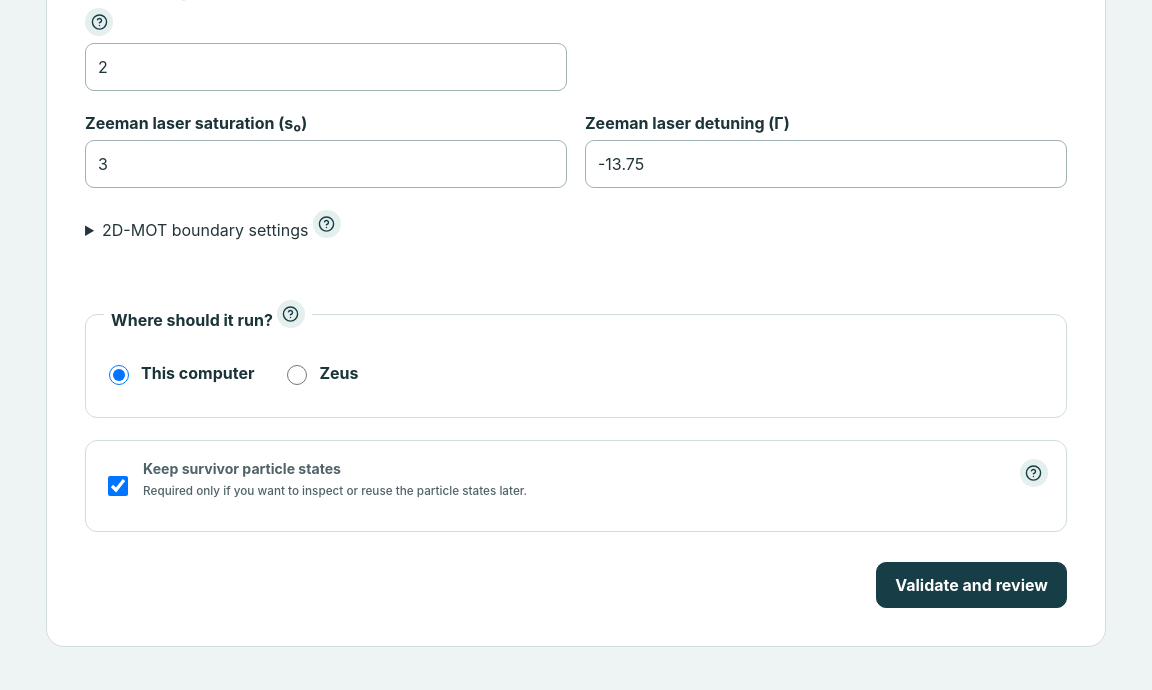
Test case: individual Zeeman wizard › uses mode-specific particle defaults and limits
(page scrolled)
Step 1. Click the radio button labelled "Zeus" → [297, 375], box [287,351,307,399]
(page scrolled)
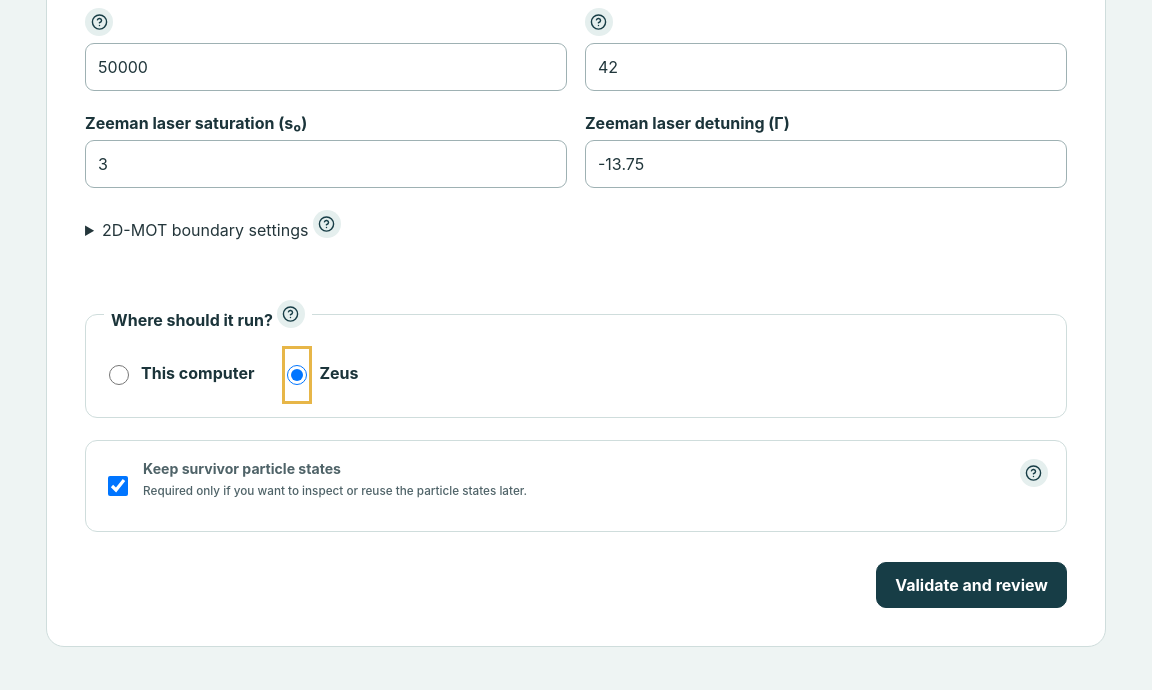
expect the number field labelled "Particle count" holds "50000": met, box [85,43,567,91]
Step 2. Click the radio button labelled "This computer" → [119, 375], box [109,351,129,399]
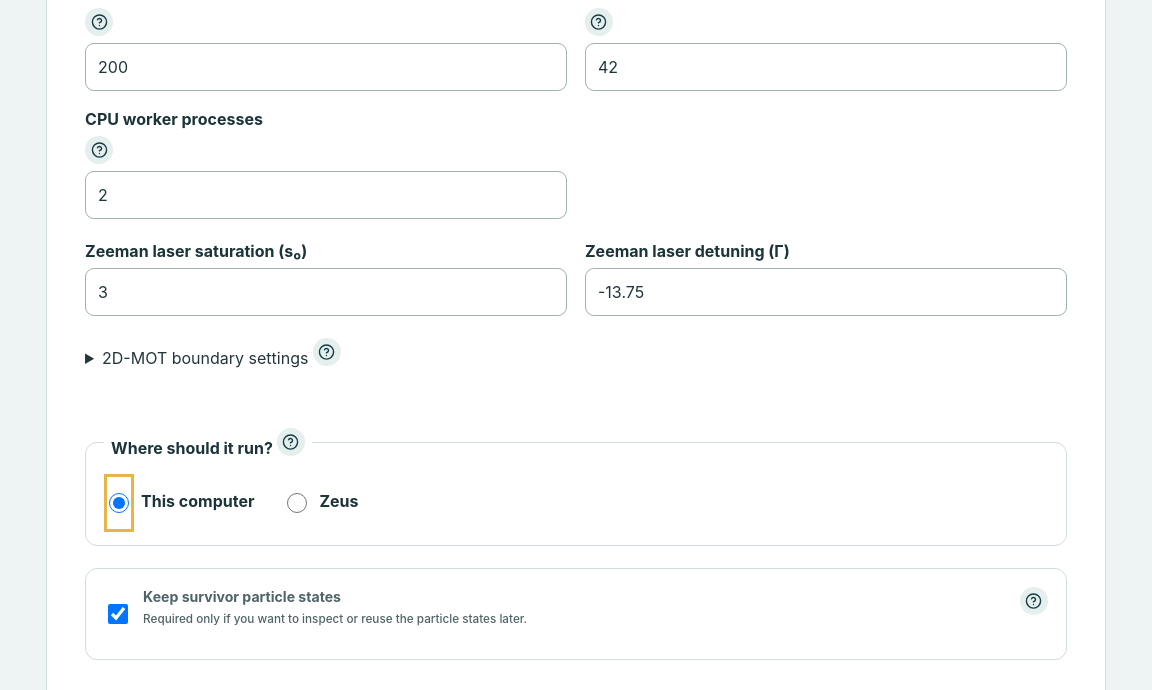
expect the number field labelled "Particle count" holds "200": met, box [85,43,567,91]
